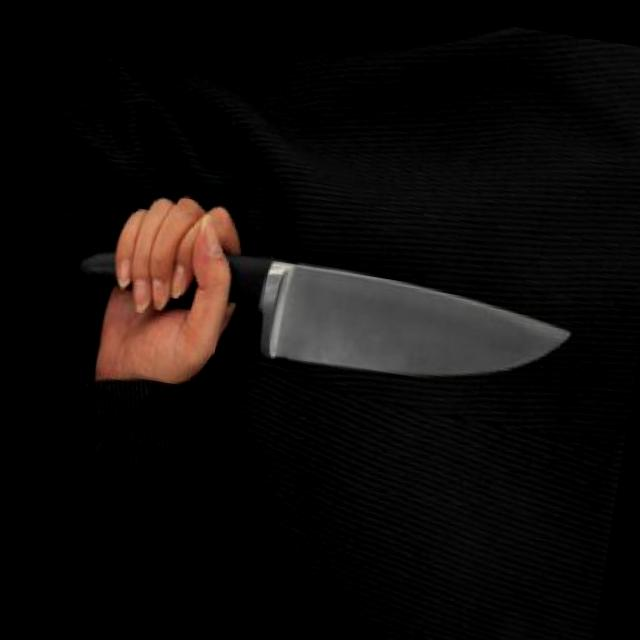knife: (95, 182, 590, 442)
